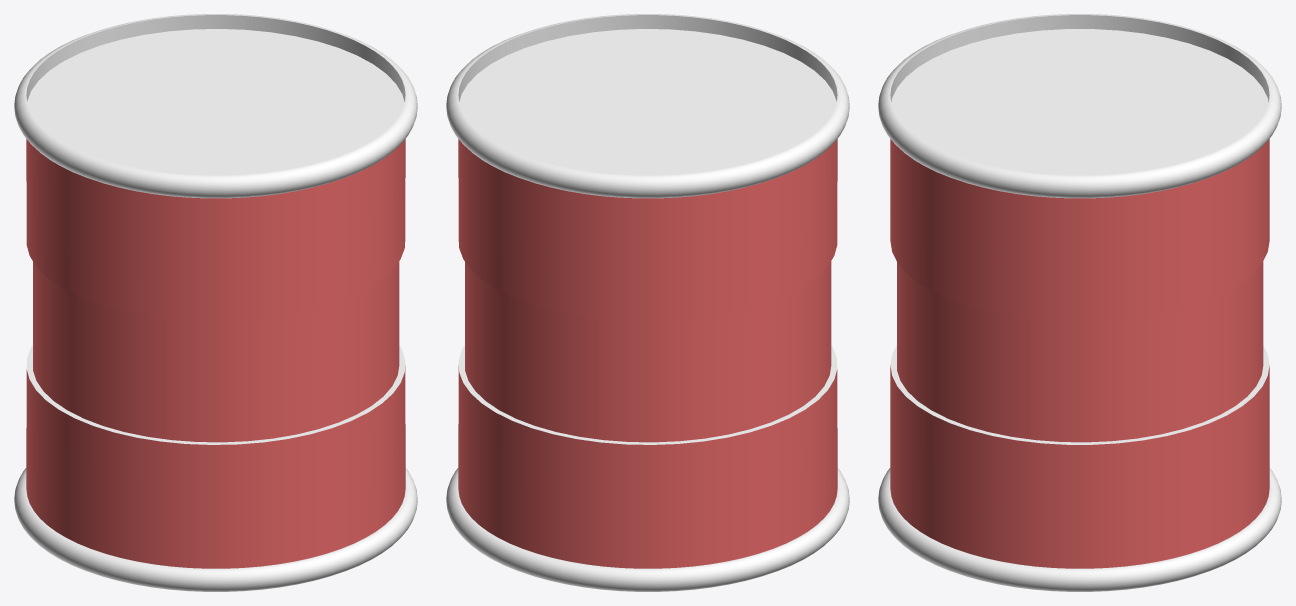
The model's file is Can.fbx.
The picture shows the model from 3 angles, left to right: view 1: azimuth 30°, elevation 25°; view 2: azimuth 150°, elevation 25°; view 3: azimuth 270°, elevation 25°; orthographic projection.
Visible parts, largest first — view 1: Knock the cans (Can); view 2: Knock the cans (Can); view 3: Knock the cans (Can).
Boxes of the visible parts, box(x1,y1,x2,y2) form: Knock the cans (Can): box(14, 14, 417, 591); Knock the cans (Can): box(446, 14, 849, 591); Knock the cans (Can): box(878, 14, 1281, 591).
Size of the model in its own units: 13.17 by 15 by 13.19.
